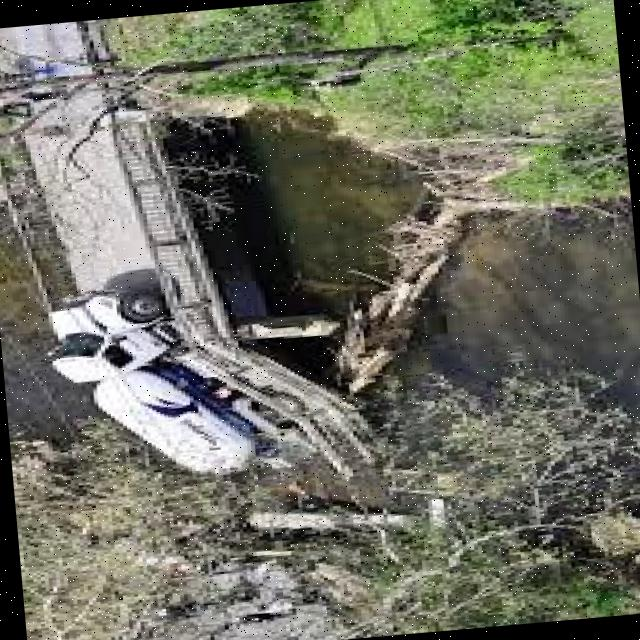bridge collapse: (24, 196, 486, 640)
